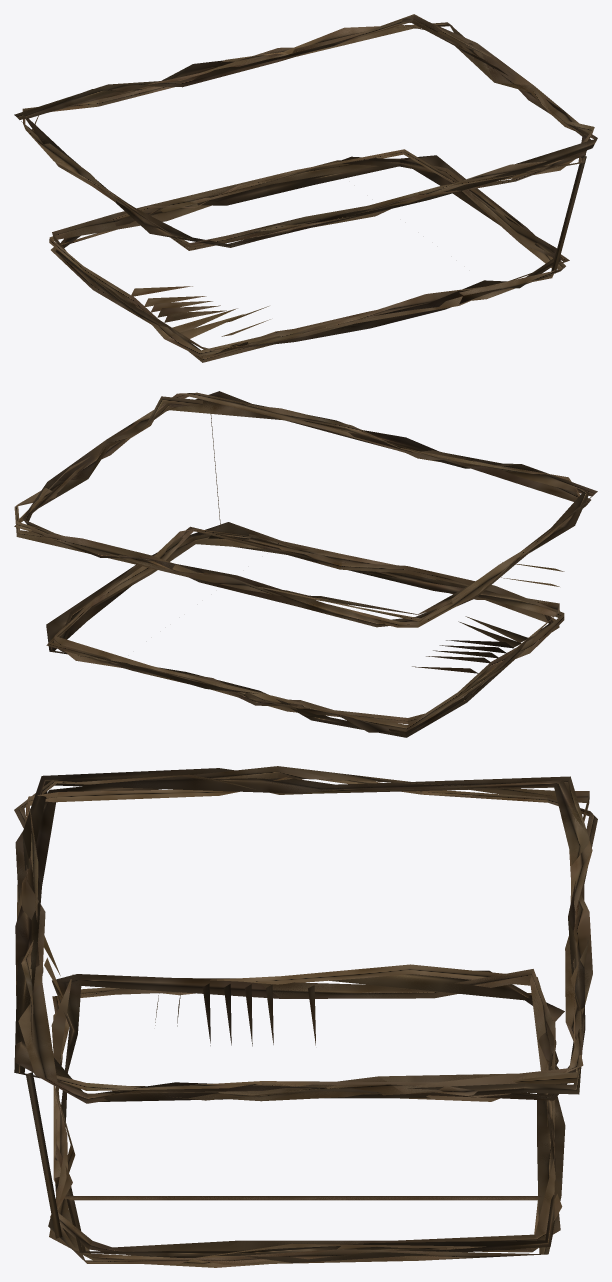
Rendered from wicker_basket_01.glb.
3 renders of one model, top to bottom at view 1: azimuth 30°, elevation 25°; view 2: azimuth 150°, elevation 25°; view 3: azimuth 270°, elevation 25°, orthographic. The views are drawn at different scales.
Visible parts, largest first — view 1: wicker_basket_01; view 2: wicker_basket_01; view 3: wicker_basket_01.
Part boxes in pixels (x1,y1,x2,y2): wicker_basket_01: [14, 14, 597, 362]; wicker_basket_01: [14, 391, 597, 737]; wicker_basket_01: [14, 766, 597, 1267].
Bounding box in the file's own units: 0.38 × 0.1171 × 0.2928.
1 material, 1 textured.
